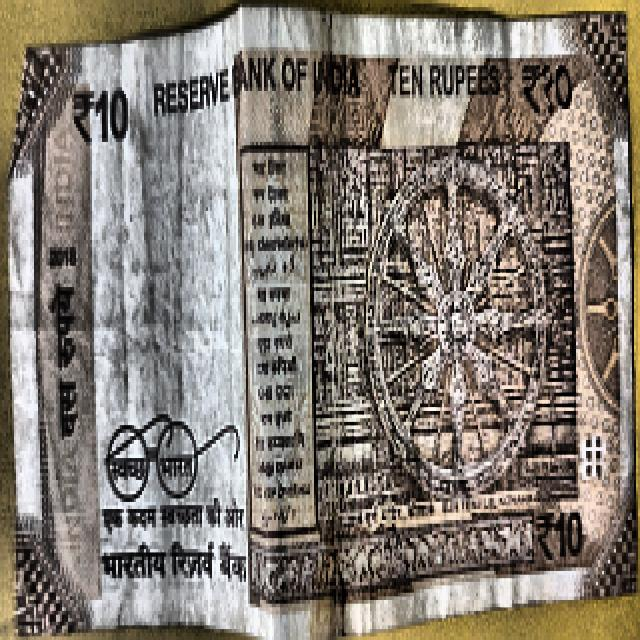-10-: (16, 19, 640, 608)
